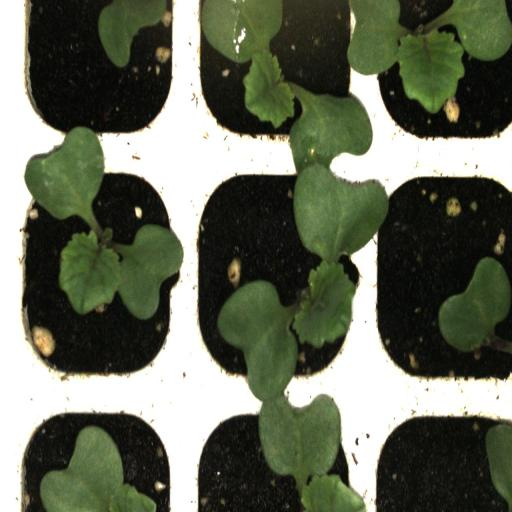Folha: (39, 425, 157, 512), (438, 256, 512, 352), (98, 0, 167, 68), (486, 422, 512, 505)
Germinacao: (187, 156, 371, 390), (14, 154, 186, 388), (186, 0, 365, 152), (365, 0, 512, 159)
